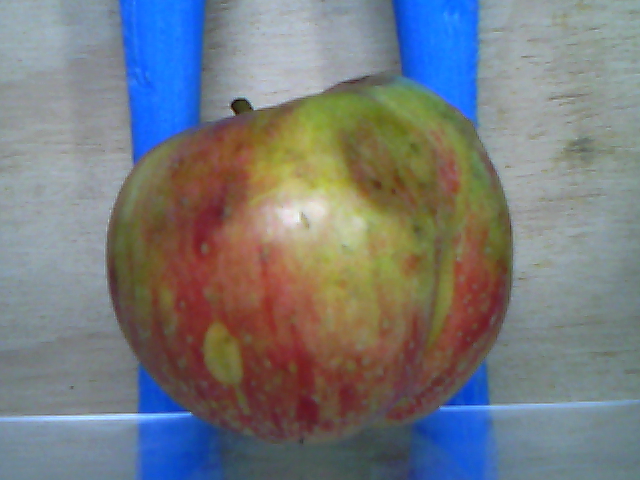bruise: (334, 113, 456, 221)
